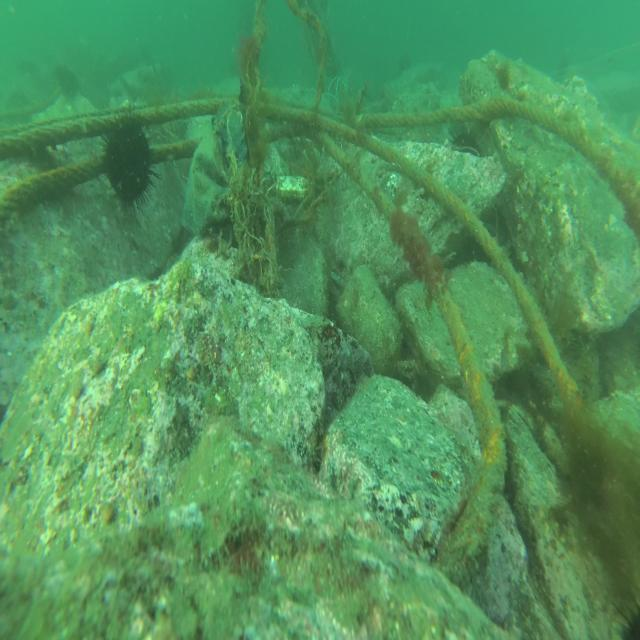echinus: (102, 111, 156, 213)
